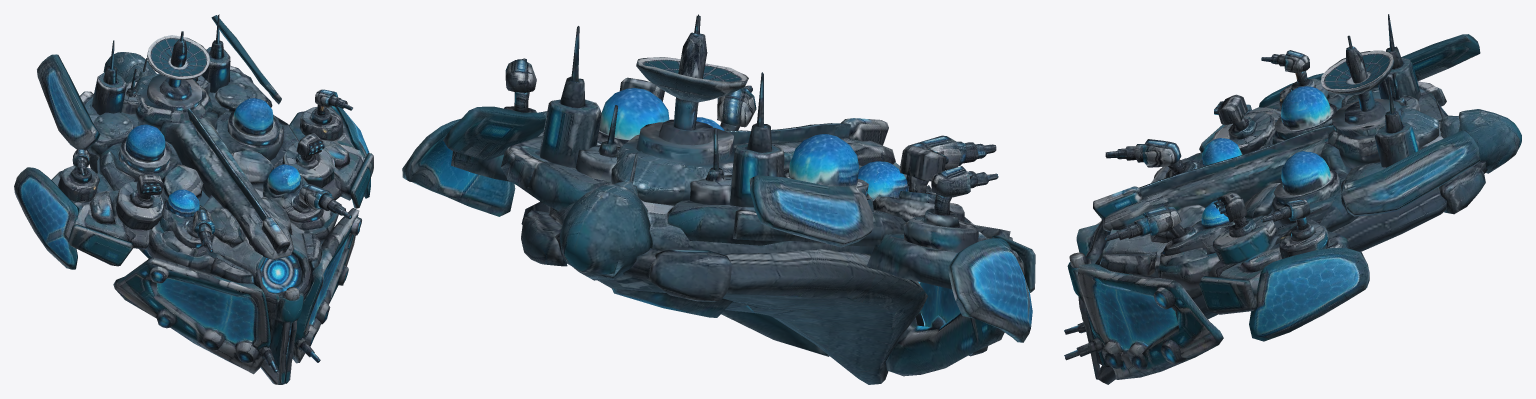
Rendered from defensive_lvl_4.glb.
3 renders of one model, left to right at view 1: azimuth 30°, elevation 25°; view 2: azimuth 150°, elevation 25°; view 3: azimuth 270°, elevation 25°, orthographic. The views are drawn at different scales.
Parts seen in each view (by area): view 1: mesh_node; view 2: mesh_node; view 3: mesh_node.
Boxes of the visible parts, x1,y1,x2,y2 form: mesh_node: [14, 14, 373, 384]; mesh_node: [402, 14, 1035, 384]; mesh_node: [1064, 14, 1521, 384].
Bounding box in the file's own units: 1 × 0.8281 × 0.9902.
Materials: 1 (1 with a texture image).
